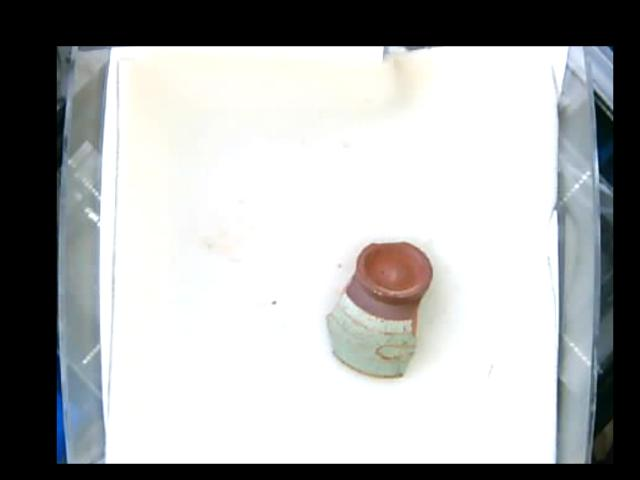China: (326, 239, 434, 379)
